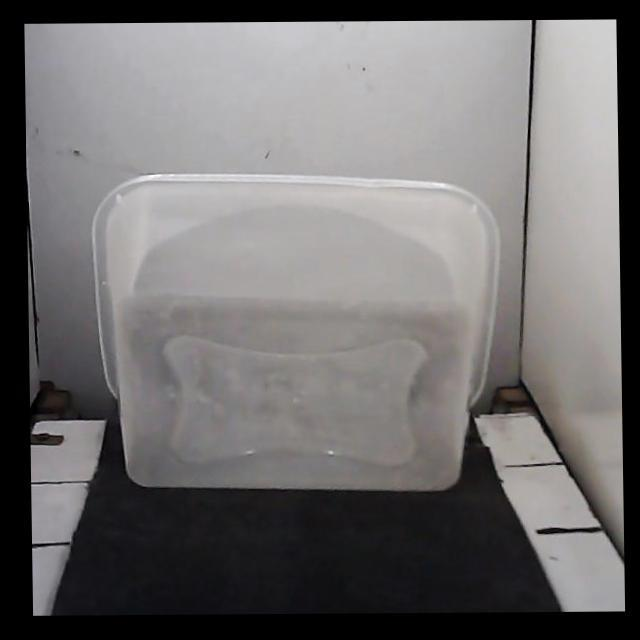plastico: (94, 175, 497, 490)
